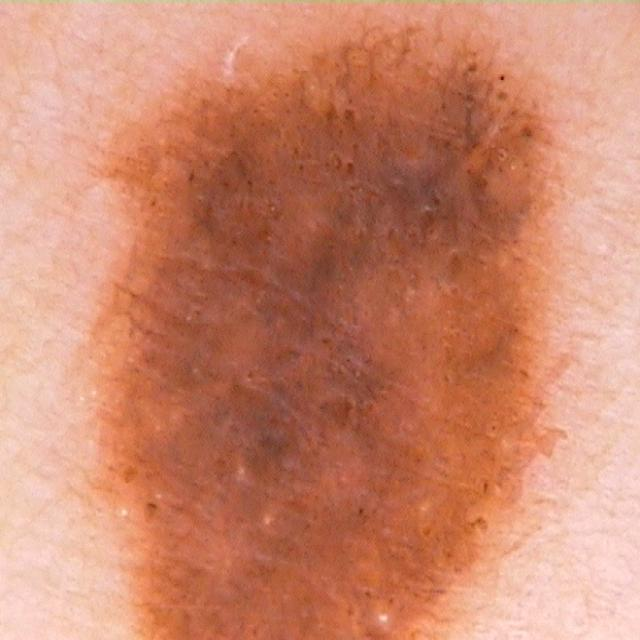Melanoma: (105, 10, 583, 640)
